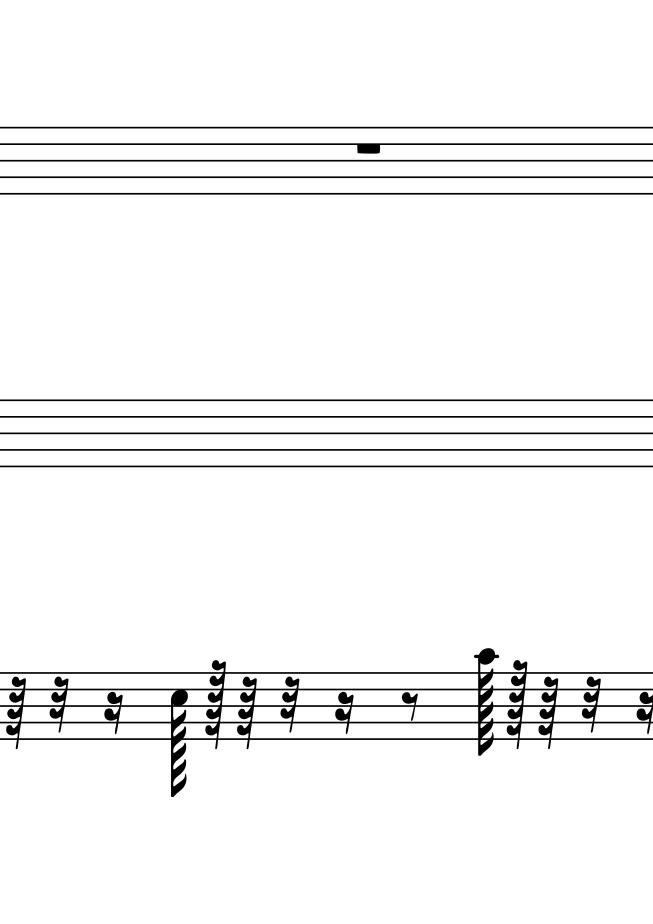128_10: (475, 647, 497, 759)
128_5: (170, 670, 188, 798)
Rests1: (352, 139, 385, 158)
Rests128: (506, 659, 529, 751), (204, 658, 227, 750)
Rests16: (102, 691, 124, 736), (333, 691, 355, 736), (635, 689, 652, 734)
Rests32: (278, 675, 301, 735), (580, 675, 602, 736), (47, 675, 69, 734)
Rests64: (4, 675, 27, 749), (237, 675, 258, 748), (537, 676, 558, 749)
Rests8: (398, 690, 422, 724)
